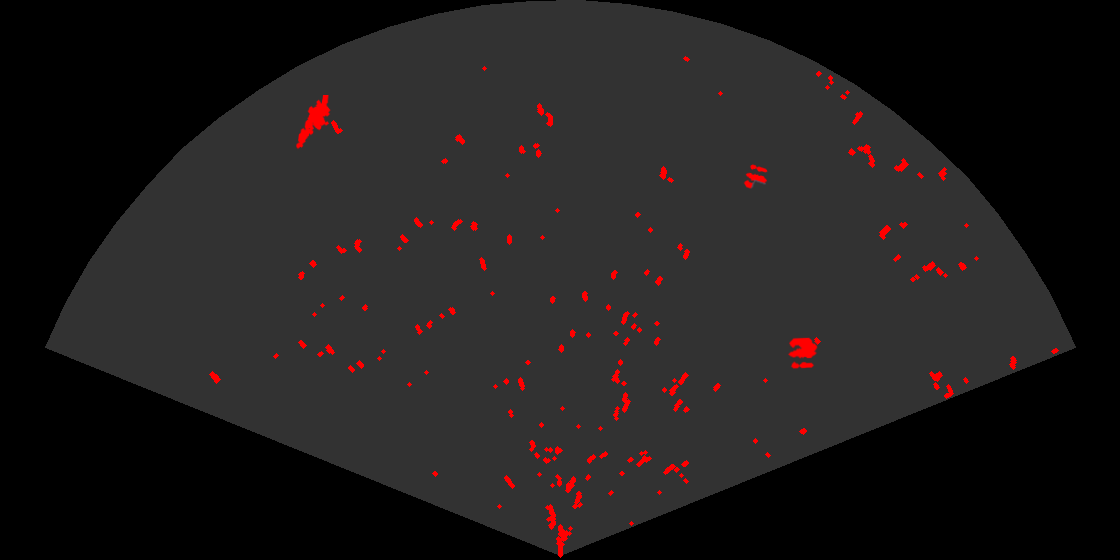ball: (786, 336, 819, 370), (742, 163, 769, 190)
frogman: (295, 95, 332, 151)
